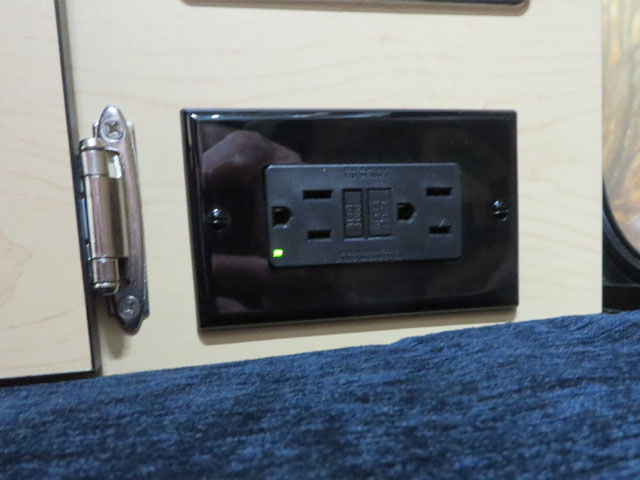outlet: (268, 181, 336, 243), (395, 178, 457, 240)
